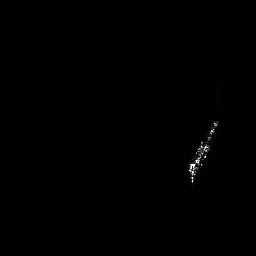ship: (183, 117, 221, 187)
